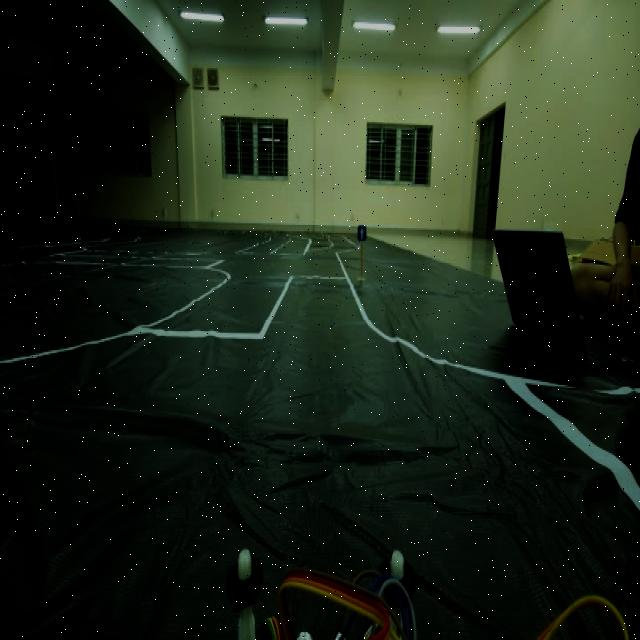onewayroad: (356, 218, 368, 245)
